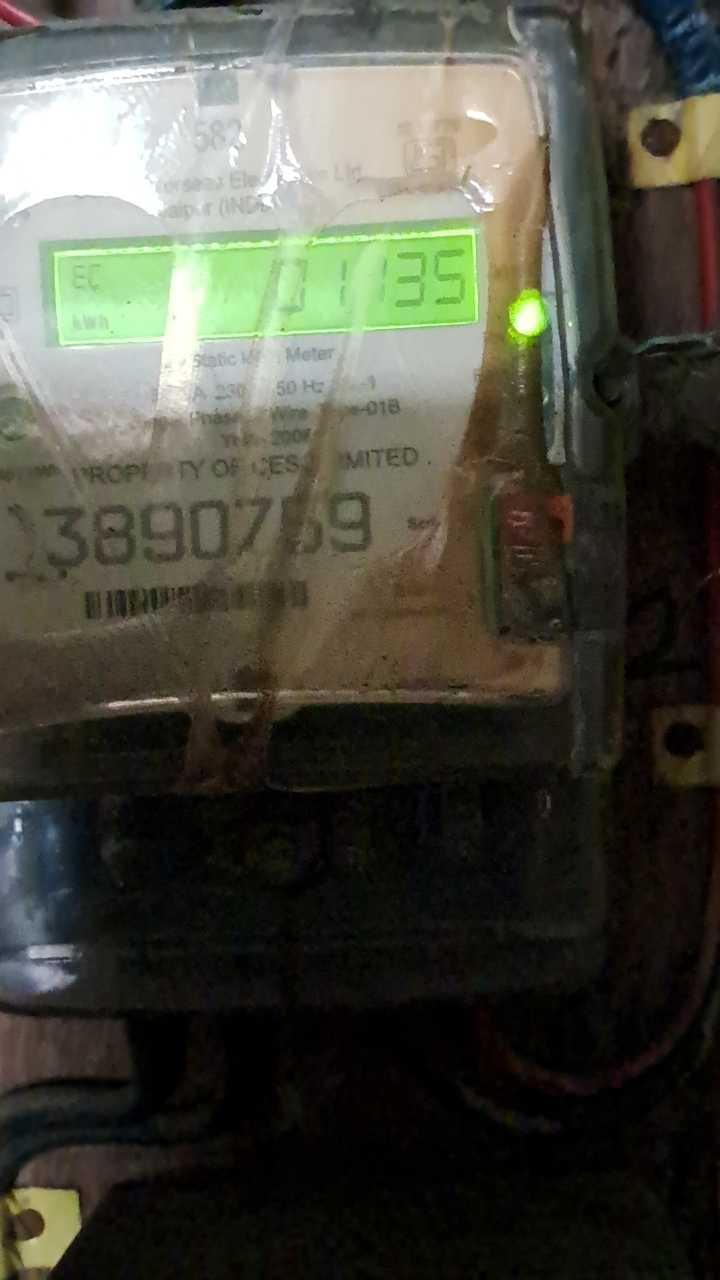meter_readings: (260, 246, 467, 318)
serial_number: (30, 493, 383, 568)
